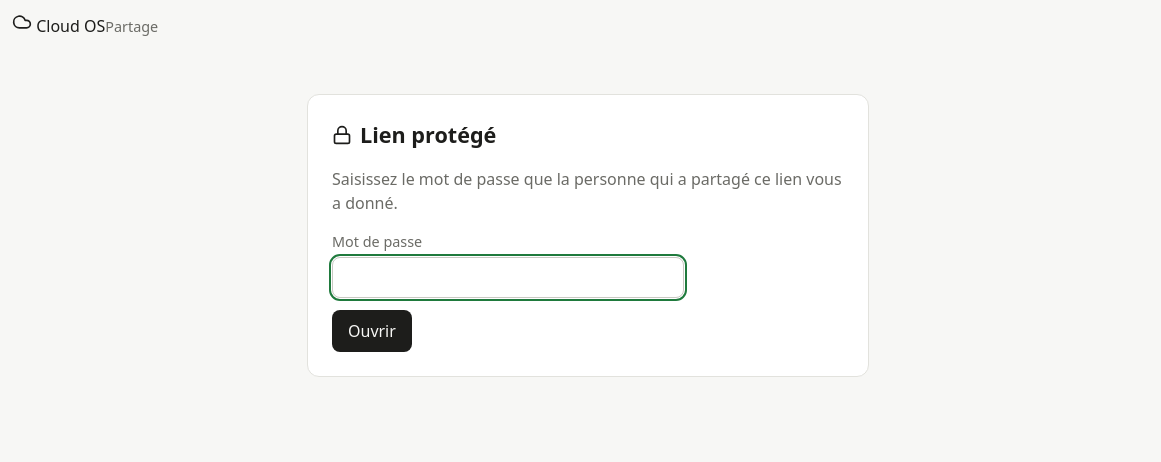
SharePage (guest) › asks for the password, then browses the folder and downloads
This screenshot has width=1161, height=462.
Expected: the heading "Lien protégé" is shown, x1=332 y1=120 x2=496 y2=149
Step 1. Type "mauvais" into the password field labelled "Mot de passe" → (508, 278), box x1=332 y1=257 x2=684 y2=298
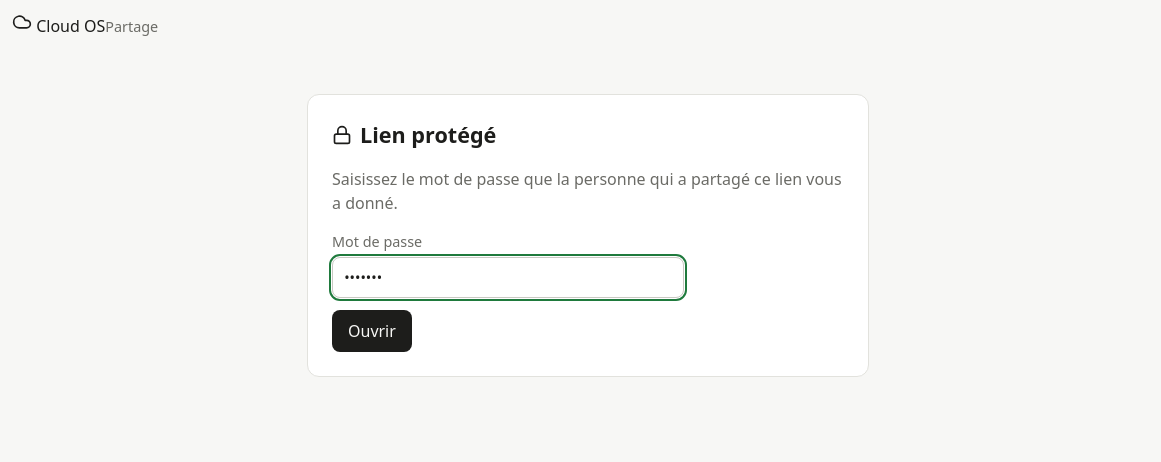
Step 2. Click the button "Ouvrir" → (372, 331), box x1=332 y1=310 x2=412 y2=352
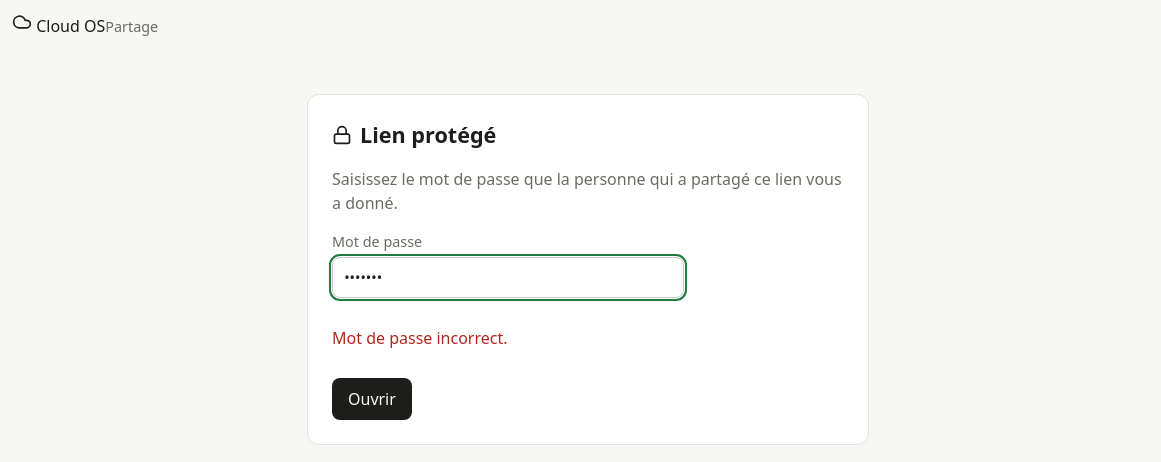
Result: the text "Mot de passe incorrect." is shown at x1=332 y1=327 x2=508 y2=349
Step 3. Type "sesame ouvre-toi" into the password field labelled "Mot de passe" → (508, 278), box x1=332 y1=257 x2=684 y2=298
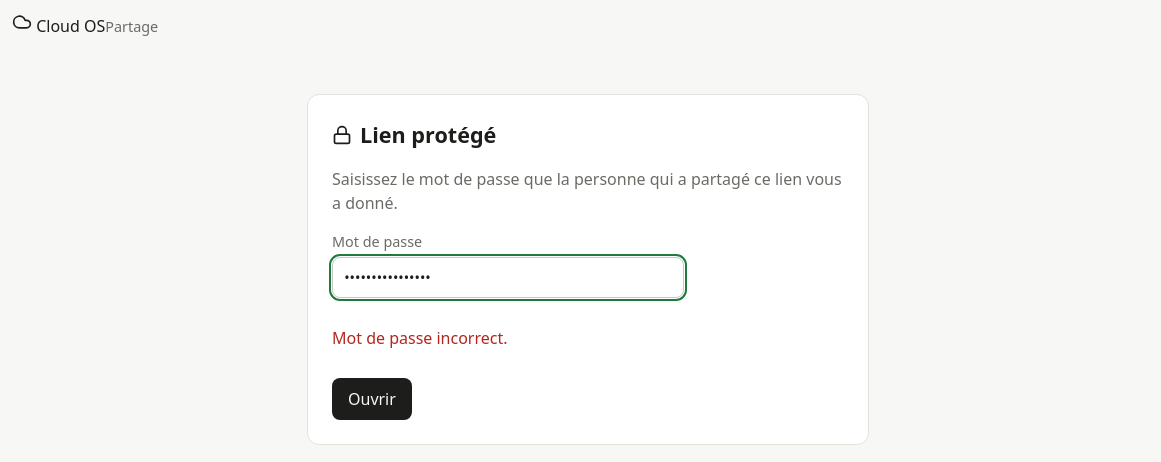
Step 4. Click the button "Ouvrir" → (372, 399), box x1=332 y1=378 x2=412 y2=420
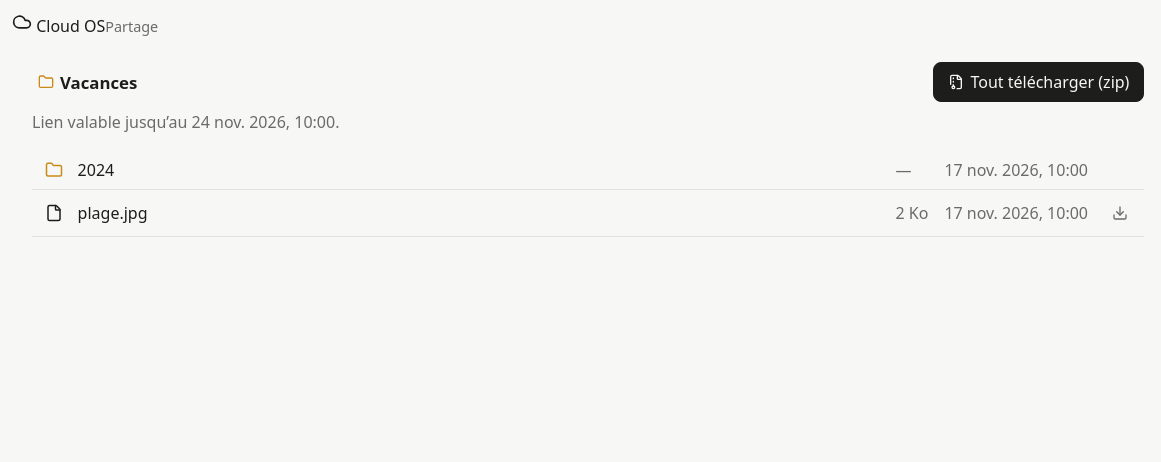
Result: the text "plage.jpg" is shown at x1=78 y1=201 x2=148 y2=225
Step 5. Click the button "2024" → (96, 170), box x1=78 y1=158 x2=114 y2=182
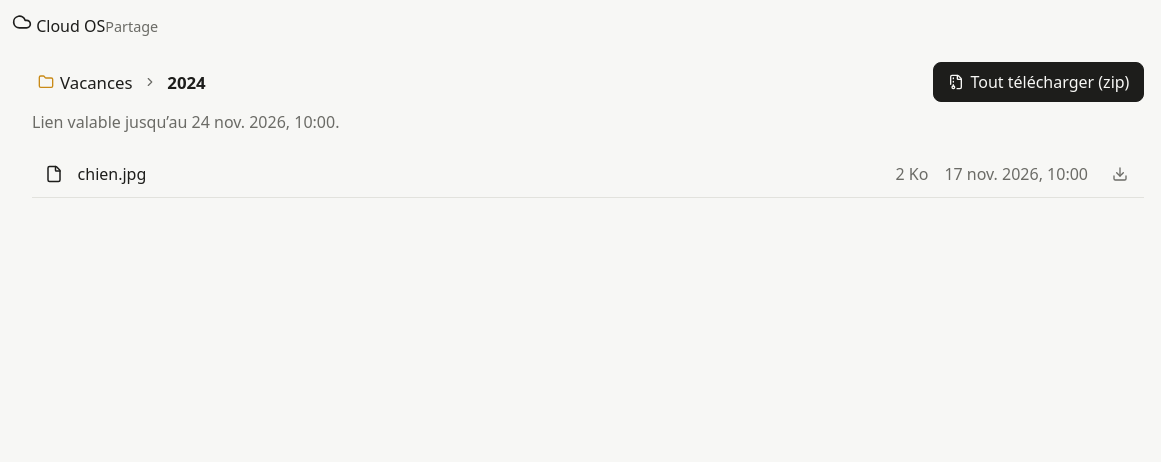
Result: the text "chien.jpg" is shown at x1=78 y1=162 x2=146 y2=186
